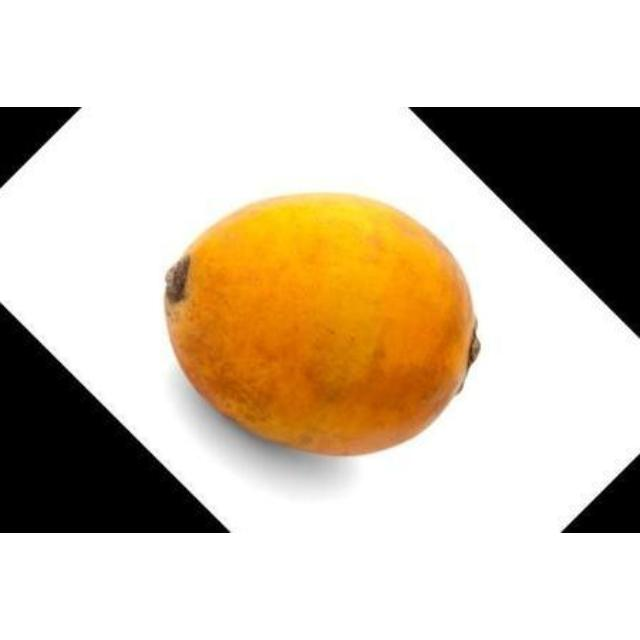good: (159, 189, 479, 460)
